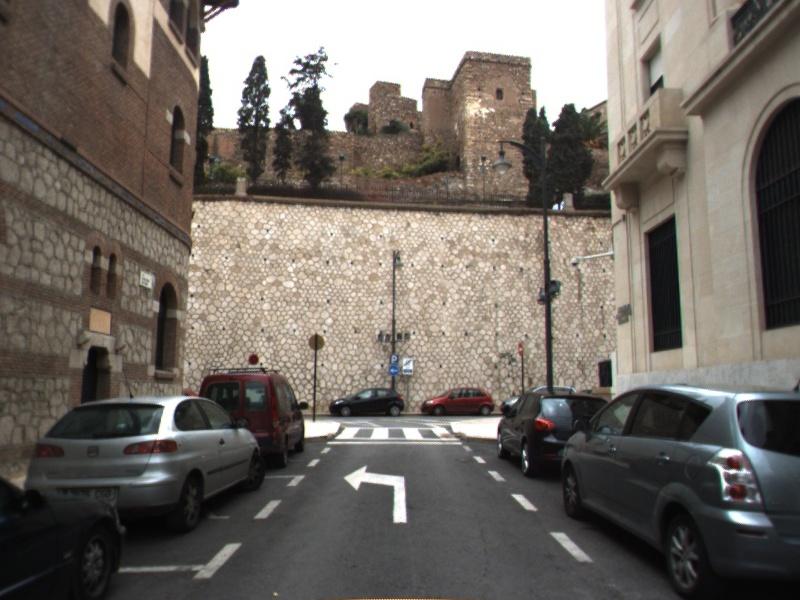LEFT: (342, 463, 410, 525)
